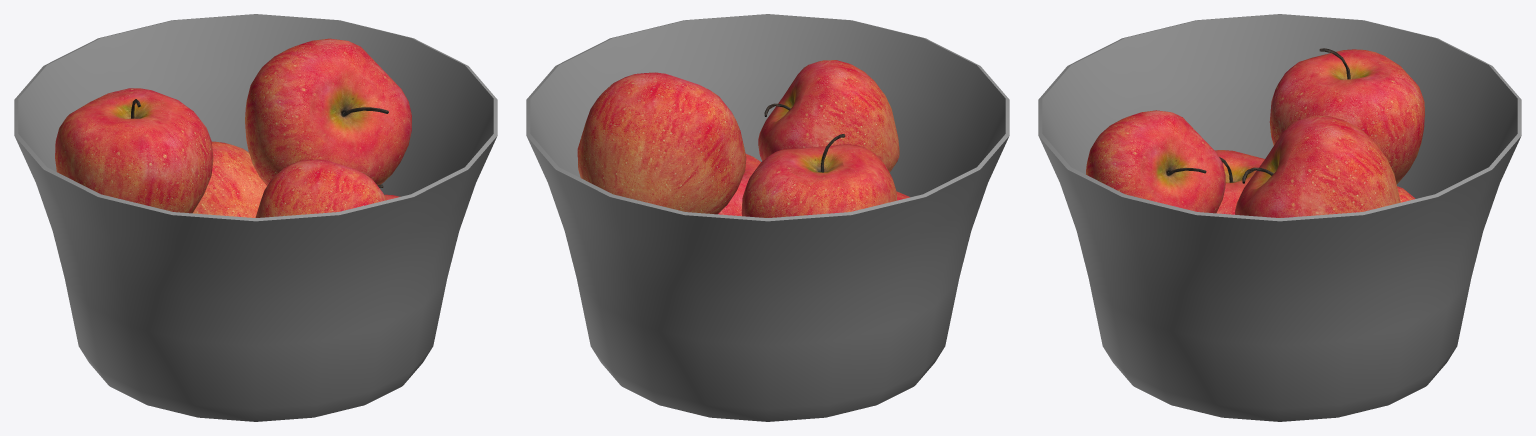
File: Apples.FBX
The picture shows the model from 3 angles, left to right: view 1: azimuth 30°, elevation 25°; view 2: azimuth 150°, elevation 25°; view 3: azimuth 270°, elevation 25°; orthographic projection.
Parts seen in each view (by area): view 1: Apples; view 2: Apples; view 3: Apples.
Boxes of the visible parts, bbox=[...] form: Apples: bbox=[14, 14, 497, 421]; Apples: bbox=[526, 14, 1009, 421]; Apples: bbox=[1038, 14, 1521, 421].
Size of the model in its own units: 29.43 by 17.69 by 28.99.
Materials: 2 (1 with a texture image).
